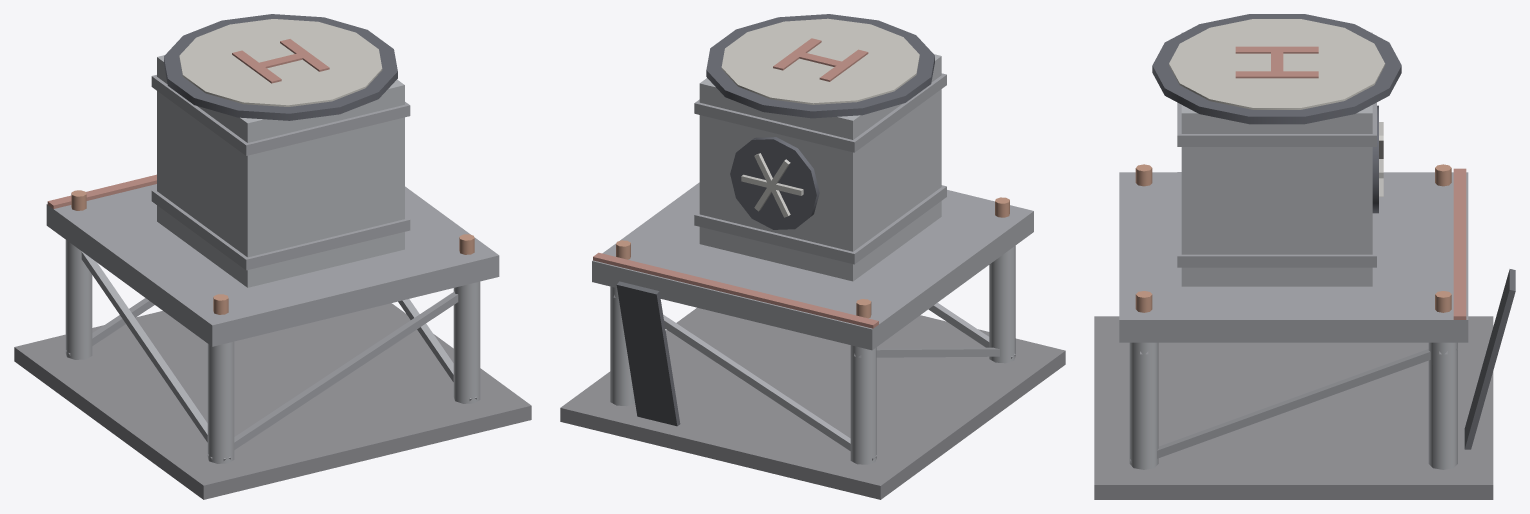
The model's file is kind-offshore-vault.glb.
3 views of the same model, side by side, from view 1: azimuth 30°, elevation 25°; view 2: azimuth 150°, elevation 25°; view 3: azimuth 270°, elevation 25° (orthographic). The views are drawn at different scales.
Parts seen in each view (by area): view 1: kind-offshore-vault; view 2: kind-offshore-vault; view 3: kind-offshore-vault.
Part boxes in pixels (x1,y1,x2,y2): kind-offshore-vault: [14, 14, 531, 499]; kind-offshore-vault: [560, 14, 1065, 499]; kind-offshore-vault: [1094, 14, 1515, 499].
Bounding box in the file's own units: 0.96 × 0.94 × 1.01.
